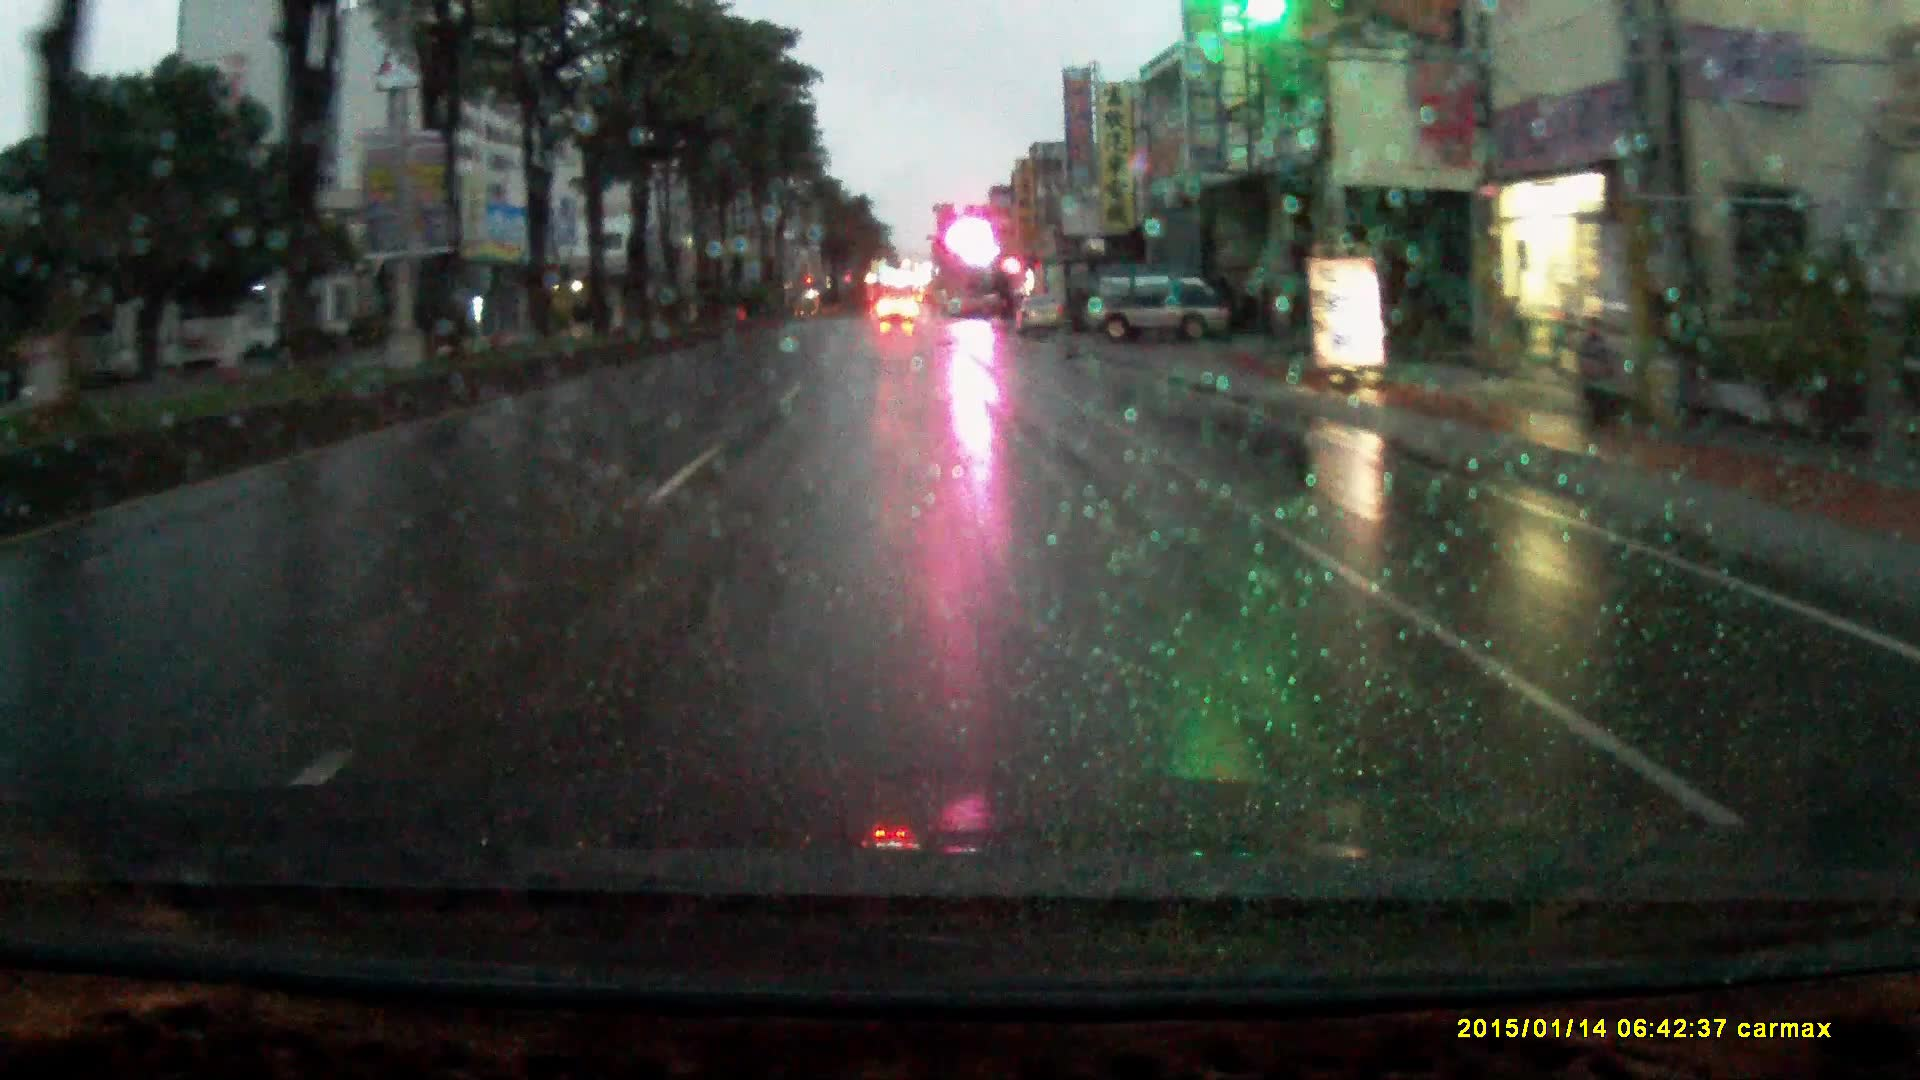vehicle: (1077, 272, 1236, 343), (1027, 247, 1095, 328), (1015, 294, 1067, 342), (877, 286, 919, 316)
